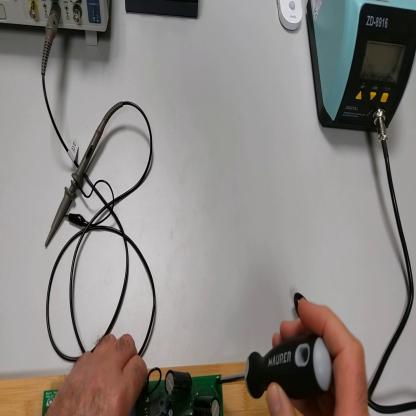hand: (261, 297, 369, 413), (49, 334, 148, 413)
high voltage board: (42, 370, 224, 416)
oscilloscope probe tip: (47, 101, 121, 246), (2, 2, 112, 46)
screwdriver-: (217, 334, 332, 401)
welder station: (309, 3, 416, 131)
working area: (2, 362, 302, 415)
